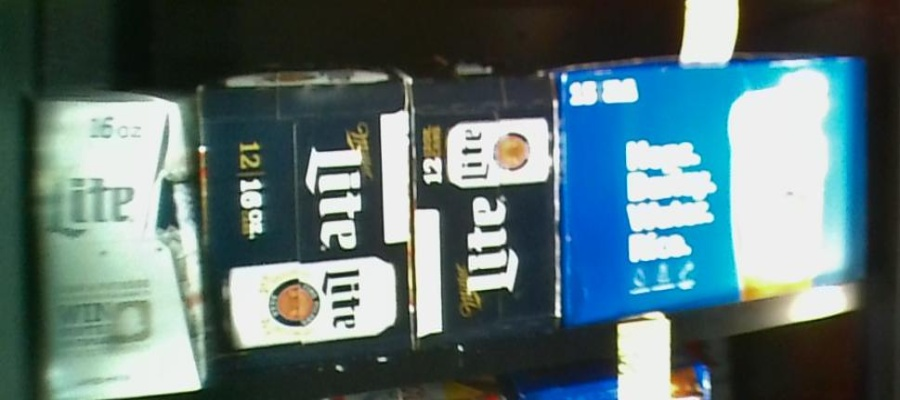bottle: (566, 61, 872, 306), (206, 71, 411, 370), (27, 90, 205, 393), (411, 67, 563, 339)
